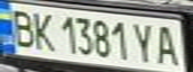1: (54, 12, 78, 55), (109, 18, 130, 61)
3: (72, 15, 93, 56)
8: (90, 16, 112, 60)
A: (151, 21, 184, 66)
B: (6, 6, 39, 48)
K: (27, 9, 57, 52)
Y: (130, 19, 160, 64)
